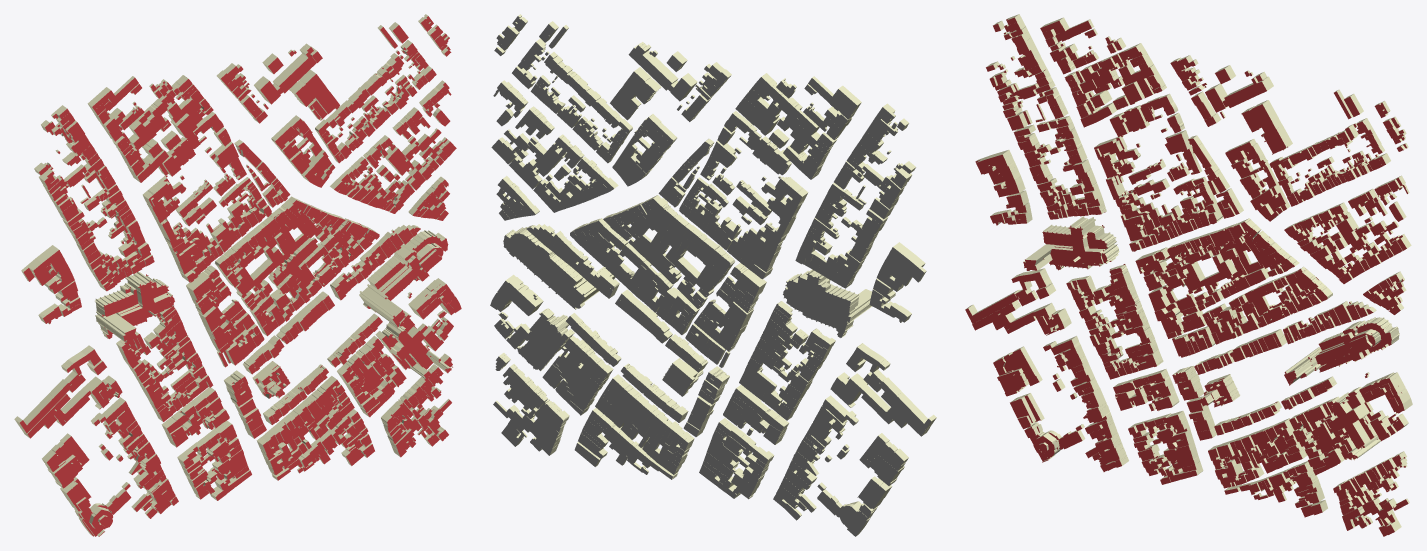
The picture shows the model from 3 angles, left to right: view 1: azimuth 30°, elevation 25°; view 2: azimuth 150°, elevation 25°; view 3: azimuth 330°, elevation 25°; orthographic projection.
Visible parts, largest first — view 1: NL.IMBAG.Pand.0503100000000209-531, NL.IMBAG.Pand.0503100000022523-63, NL.IMBAG.Pand.0503100000028802-463, NL.IMBAG.Pand.0503100000021851-19, NL.IMBAG.Pand.0503100000026444-67, NL.IMBAG.Pand.0503100000024738-755, NL.IMBAG.Pand.0503100000022524-502, NL.IMBAG.Pand.0503100000022151-96, NL.IMBAG.Pand.0503100000031221-722, NL.IMBAG.Pand.0503100000021853-173, NL.IMBAG.Pand.0503100000000179-81, NL.IMBAG.Pand.0503100000014169-543 (+15 smaller); view 2: NL.IMBAG.Pand.0503100000022523-63, NL.IMBAG.Pand.0503100000000209-531, NL.IMBAG.Pand.0503100000028802-463, NL.IMBAG.Pand.0503100000026444-67, NL.IMBAG.Pand.0503100000024738-755, NL.IMBAG.Pand.0503100000021851-19, NL.IMBAG.Pand.0503100000022524-502, NL.IMBAG.Pand.0503100000022151-96, NL.IMBAG.Pand.0503100000026874-190, NL.IMBAG.Pand.0503100000031221-722, NL.IMBAG.Pand.0503100000000179-81, NL.IMBAG.Pand.0503100000021746-899 (+13 smaller); view 3: NL.IMBAG.Pand.0503100000022523-63, NL.IMBAG.Pand.0503100000000209-531, NL.IMBAG.Pand.0503100000028802-463, NL.IMBAG.Pand.0503100000024738-755, NL.IMBAG.Pand.0503100000021851-19, NL.IMBAG.Pand.0503100000026444-67, NL.IMBAG.Pand.0503100000022524-502, NL.IMBAG.Pand.0503100000022151-96, NL.IMBAG.Pand.0503100000021853-173, NL.IMBAG.Pand.0503100000026874-190, NL.IMBAG.Pand.0503100000031221-722, NL.IMBAG.Pand.0503100000014169-543 (+15 smaller).
Part boxes in pixels (x1,y1,x2,y2): NL.IMBAG.Pand.0503100000000209-531: (359,230,448,327); NL.IMBAG.Pand.0503100000022523-63: (95,271,174,342); NL.IMBAG.Pand.0503100000028802-463: (375,311,451,379); NL.IMBAG.Pand.0503100000021851-19: (225,245,285,298); NL.IMBAG.Pand.0503100000026444-67: (54,375,122,425); NL.IMBAG.Pand.0503100000024738-755: (289,69,339,120); NL.IMBAG.Pand.0503100000022524-502: (408,278,461,319); NL.IMBAG.Pand.0503100000022151-96: (78,489,131,536); NL.IMBAG.Pand.0503100000031221-722: (256,216,302,272); NL.IMBAG.Pand.0503100000021853-173: (167,95,203,138); NL.IMBAG.Pand.0503100000000179-81: (14,379,72,433); NL.IMBAG.Pand.0503100000014169-543: (252,361,290,398); NL.IMBAG.Pand.0503100000022523-63: (783,269,871,337); NL.IMBAG.Pand.0503100000000209-531: (503,227,615,309); NL.IMBAG.Pand.0503100000028802-463: (516,308,574,370); NL.IMBAG.Pand.0503100000026444-67: (830,372,896,424); NL.IMBAG.Pand.0503100000024738-755: (610,67,661,120); NL.IMBAG.Pand.0503100000021851-19: (665,245,725,296); NL.IMBAG.Pand.0503100000022524-502: (490,274,543,315); NL.IMBAG.Pand.0503100000022151-96: (817,489,871,536); NL.IMBAG.Pand.0503100000026874-190: (746,131,791,175); NL.IMBAG.Pand.0503100000031221-722: (647,214,692,271); NL.IMBAG.Pand.0503100000000179-81: (877,377,936,431); NL.IMBAG.Pand.0503100000021746-899: (634,44,678,91); NL.IMBAG.Pand.0503100000022523-63: (1023,216,1119,270); NL.IMBAG.Pand.0503100000000209-531: (1284,317,1399,385); NL.IMBAG.Pand.0503100000028802-463: (1328,386,1380,460); NL.IMBAG.Pand.0503100000024738-755: (1241,100,1292,154); NL.IMBAG.Pand.0503100000021851-19: (1176,250,1236,293); NL.IMBAG.Pand.0503100000026444-67: (999,303,1071,335); NL.IMBAG.Pand.0503100000022524-502: (1359,372,1412,411); NL.IMBAG.Pand.0503100000022151-96: (1030,430,1085,462); NL.IMBAG.Pand.0503100000021853-173: (1118,63,1157,104); NL.IMBAG.Pand.0503100000026874-190: (1109,103,1155,136); NL.IMBAG.Pand.0503100000031221-722: (1210,227,1249,291); NL.IMBAG.Pand.0503100000014169-543: (1199,374,1240,407).
Size of the model in its own units: 545 by 530 by 75.02.
